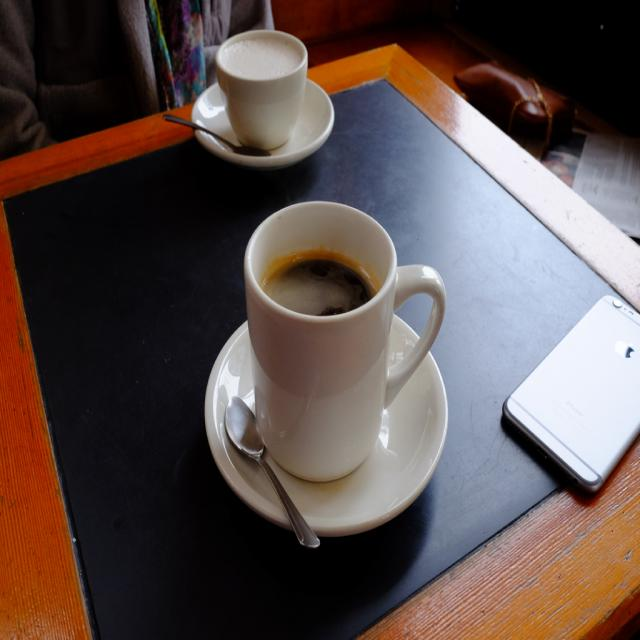Coffee: (224, 194, 451, 486), (258, 254, 377, 319)
